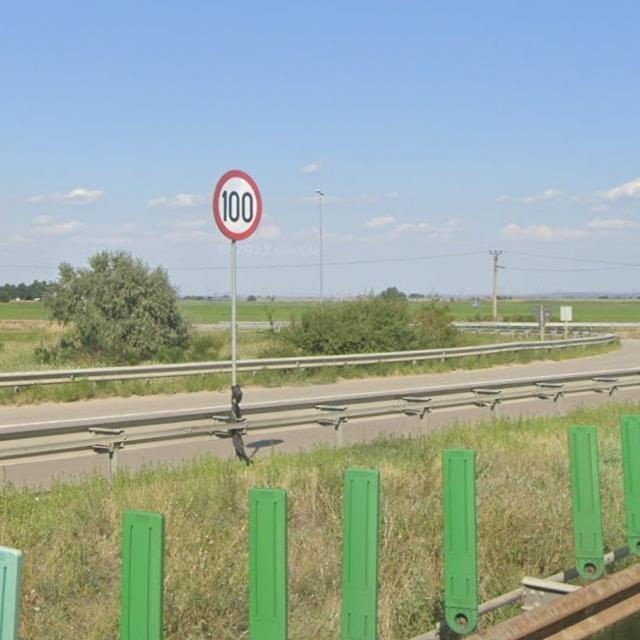forb_speed_over_100: (213, 170, 262, 243)
